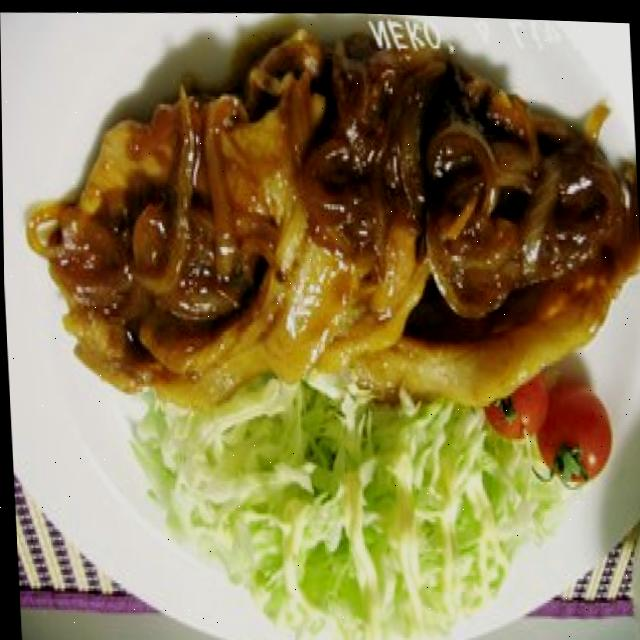猪肉菜式: (0, 40, 640, 452)
